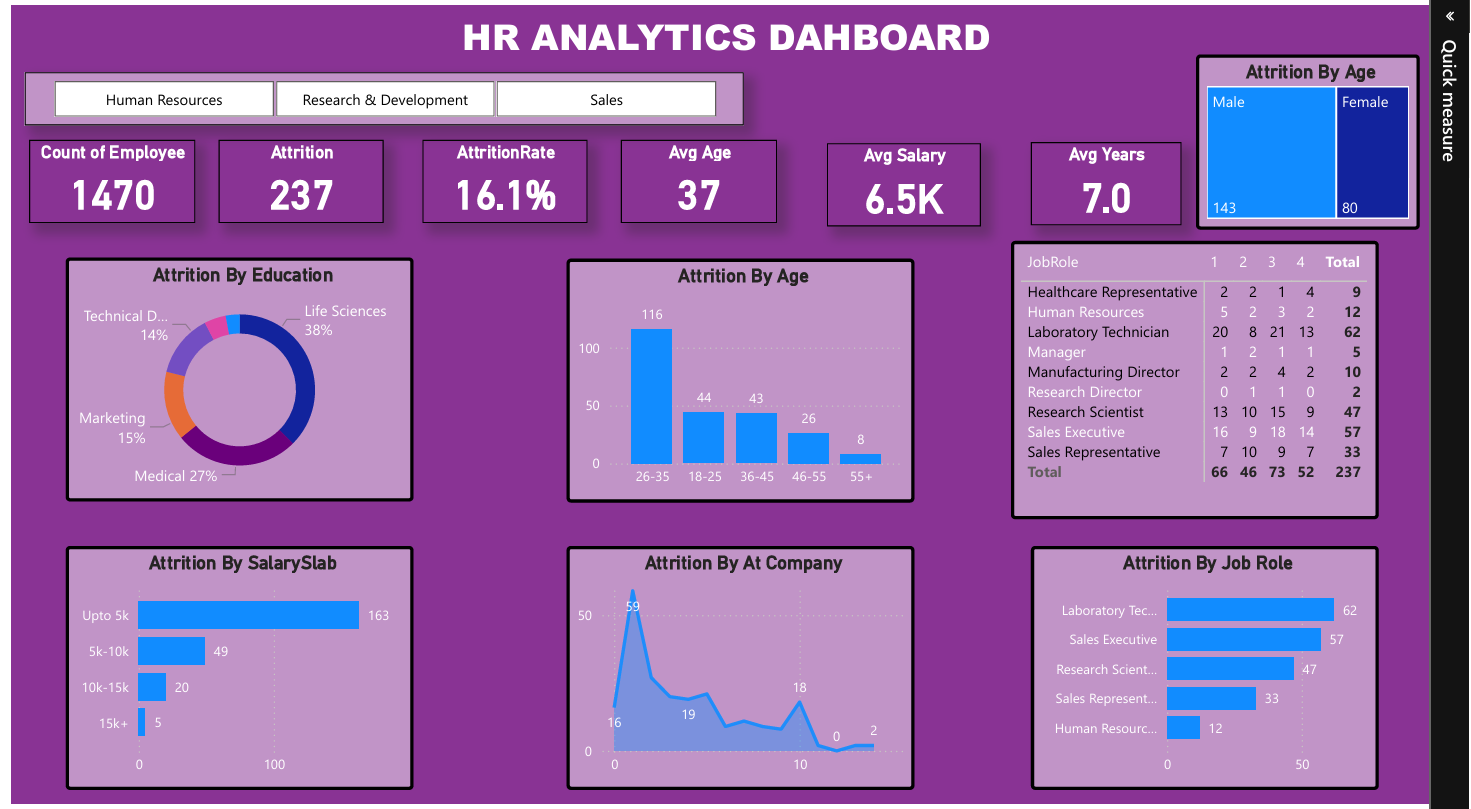

What the dashboard file says about the page in this screenshot:
{"tool":"powerbi","page":{"name":"Page 1","canvas":[1280,720],"ordinal":0},"visuals":[{"type":"card","title":"Count of Employee","fields":{"Values":["CountNonNull(HR_Analytics.EmpID)"]},"box":[16,121.5,149.7,74.8],"z":0},{"type":"card","title":"Attrition","fields":{"Values":["Sum(HR_Analytics.AttritionCount)"]},"box":[186.5,121.5,149.7,74.8],"z":1000},{"type":"card","title":"AttritionRate","fields":{"Values":["HR_Analytics.AttritionRate"]},"box":[370.6,121.5,149.7,74.8],"z":2000},{"type":"card","title":"Avg Age","fields":{"Values":["Avg(HR_Analytics.Age)"]},"box":[549.7,121.5,141.1,74.8],"z":3000},{"type":"card","title":"Avg Salary","fields":{"Values":["Avg(HR_Analytics.MonthlyIncome)"]},"box":[736.2,123.9,138.7,74.8],"z":4000},{"type":"card","title":"Avg Years","fields":{"Values":["Avg(HR_Analytics.YearsAtCompany)"]},"box":[920.3,122.7,136.2,74.8],"z":5000},{"type":"donutChart","title":"Attrition By Education","fields":{"Category":["HR_Analytics.EducationField"],"Y":["Sum(HR_Analytics.AttritionCount)"]},"box":[49.1,227,314.1,219.6],"z":6000},{"type":"columnChart","title":"Attrition By Age","fields":{"Category":["HR_Analytics.AgeGroup"],"Y":["Sum(HR_Analytics.AttritionCount)"]},"box":[500.6,228.2,314.1,219.6],"z":7000},{"type":"pivotTable","fields":{"Values":["Sum(HR_Analytics.AttritionCount)"],"Rows":["HR_Analytics.JobRole"],"Columns":["HR_Analytics.JobSatisfaction"]},"box":[901.8,212.3,332.5,250.3],"z":8000},{"type":"barChart","title":"Attrition By SalarySlab","fields":{"Category":["HR_Analytics.SalarySlab"],"Y":["Sum(HR_Analytics.AttritionCount)"]},"box":[49.1,487.1,314.1,219.6],"z":9000},{"type":"barChart","title":"Attrition By Job Role","fields":{"Y":["Sum(HR_Analytics.AttritionCount)"],"Category":["HR_Analytics.JobRole"]},"box":[901.8,487.1,332.5,219.6],"z":10000},{"type":"areaChart","title":"Attrition By At Company","fields":{"Category":["HR_Analytics.YearsAtCompany"],"Y":["Sum(HR_Analytics.AttritionCount)"]},"box":[500.6,487.1,314.1,219.6],"z":11000},{"type":"treemap","title":"Attrition By Age","fields":{"Group":["HR_Analytics.Gender"],"Values":["Sum(HR_Analytics.AttritionCount)"]},"box":[1068.7,13.5,202.5,158.3],"z":12000},{"type":"slicer","fields":{"Values":["HR_Analytics.Department"]},"box":[24.5,60.1,649.1,47.9],"z":13000},{"type":"textbox","box":[402.5,0,517.8,60.1],"z":14000}]}

Visuals, with their boxes in screenshot pixels (x1, y1, x2, y2):
"Count of Employee" card: <region>25, 138, 191, 221</region>
"Attrition" card: <region>214, 138, 380, 221</region>
"AttritionRate" card: <region>418, 138, 584, 221</region>
"Avg Age" card: <region>616, 138, 772, 221</region>
"Avg Salary" card: <region>823, 141, 976, 224</region>
"Avg Years" card: <region>1027, 140, 1177, 222</region>
"Attrition By Education" donutChart: <region>62, 255, 410, 498</region>
"Attrition By Age" columnChart: <region>562, 256, 910, 500</region>
pivotTable - Sum(HR_Analytics.AttritionCount) x HR_Analytics.JobRole: <region>1006, 239, 1374, 516</region>
"Attrition By SalarySlab" barChart: <region>62, 543, 410, 786</region>
"Attrition By Job Role" barChart: <region>1006, 543, 1374, 786</region>
"Attrition By At Company" areaChart: <region>562, 543, 910, 786</region>
"Attrition By Age" treemap: <region>1191, 19, 1415, 194</region>
slicer - HR_Analytics.Department: <region>35, 70, 753, 123</region>
textbox: <region>453, 4, 1027, 70</region>
